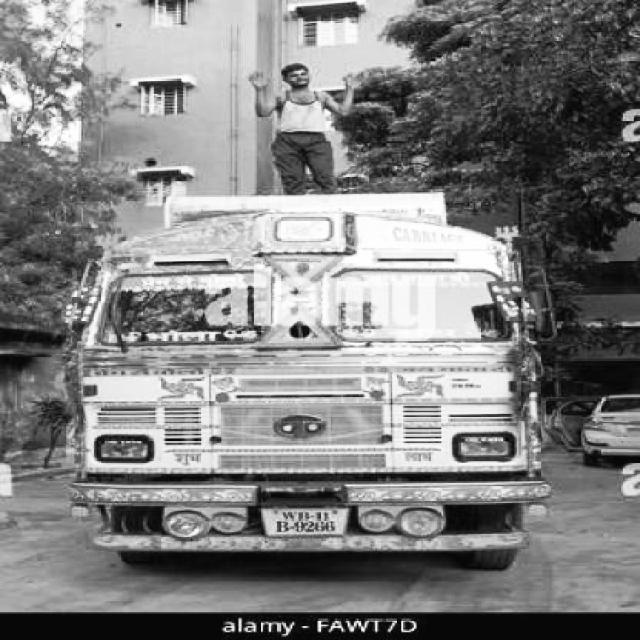HCV: (70, 196, 502, 586)
